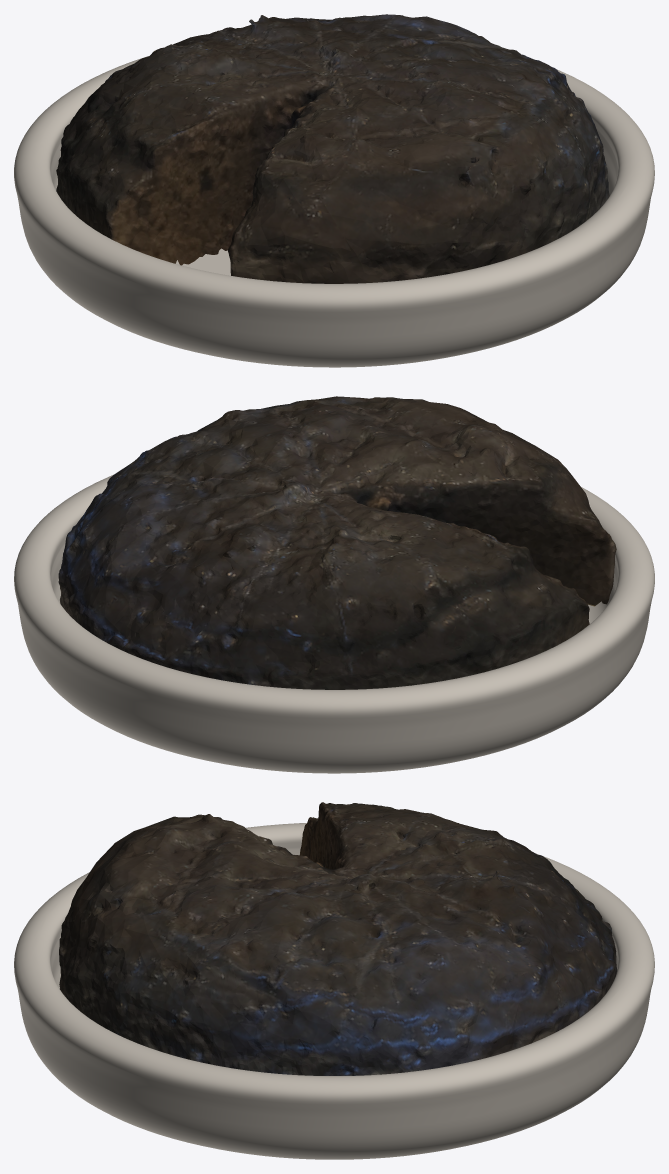
File: cake.fbx
The picture shows the model from 3 angles, top to bottom: view 1: azimuth 30°, elevation 25°; view 2: azimuth 150°, elevation 25°; view 3: azimuth 270°, elevation 25°; orthographic projection.
Visible parts, largest first — view 1: Cake.001, Mesh.002; view 2: Cake.001, Mesh.002; view 3: Cake.001, Mesh.002.
Boxes of the visible parts, <box> form: Cake.001: <box>56,14,609,283</box>; Mesh.002: <box>14,55,654,367</box>; Cake.001: <box>58,396,616,689</box>; Mesh.002: <box>14,475,654,773</box>; Cake.001: <box>59,802,617,1075</box>; Mesh.002: <box>14,823,654,1159</box>.
Size of the model in its own units: 442 by 151 by 442.
